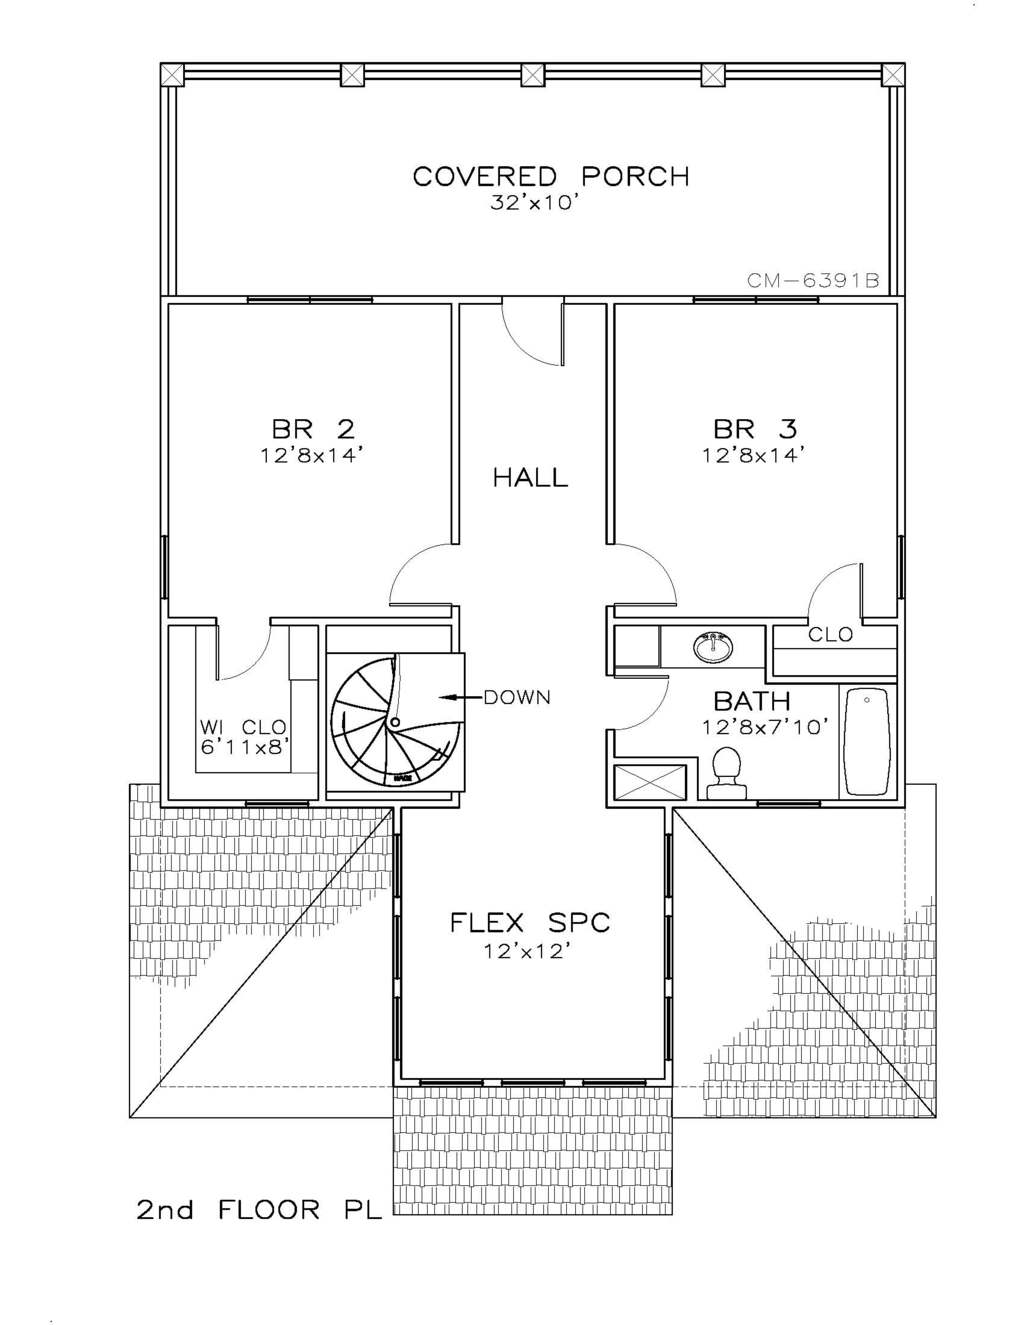coffee_table: (608, 759, 687, 809)
door: (599, 532, 682, 609), (490, 298, 570, 374), (382, 535, 459, 608), (797, 557, 869, 626), (210, 619, 278, 690), (606, 670, 668, 733)
large_sink: (699, 743, 752, 801)
small_sink: (662, 619, 768, 674)
stairs: (324, 652, 465, 786)
tub: (833, 681, 901, 811)
